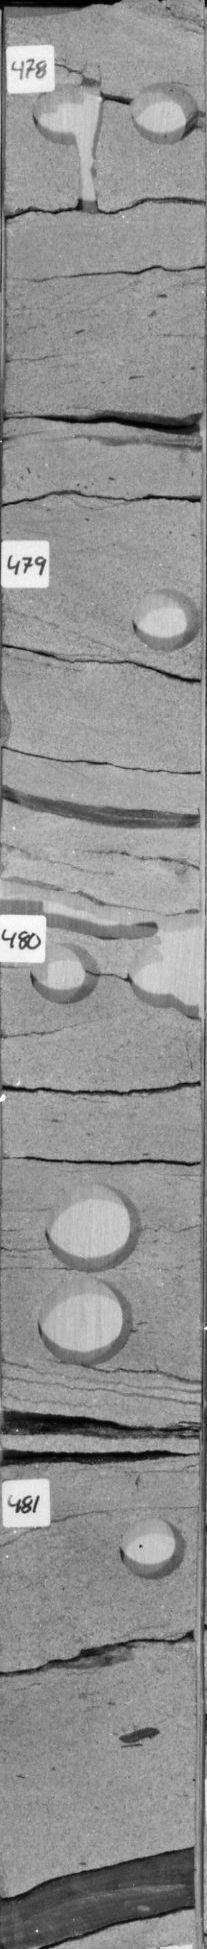hplug: (121, 77, 206, 147), (24, 935, 104, 1007), (26, 75, 108, 145), (112, 1511, 186, 1581), (126, 583, 200, 653), (121, 935, 186, 1007)
scal: (40, 1177, 144, 1277), (32, 1275, 138, 1371)
